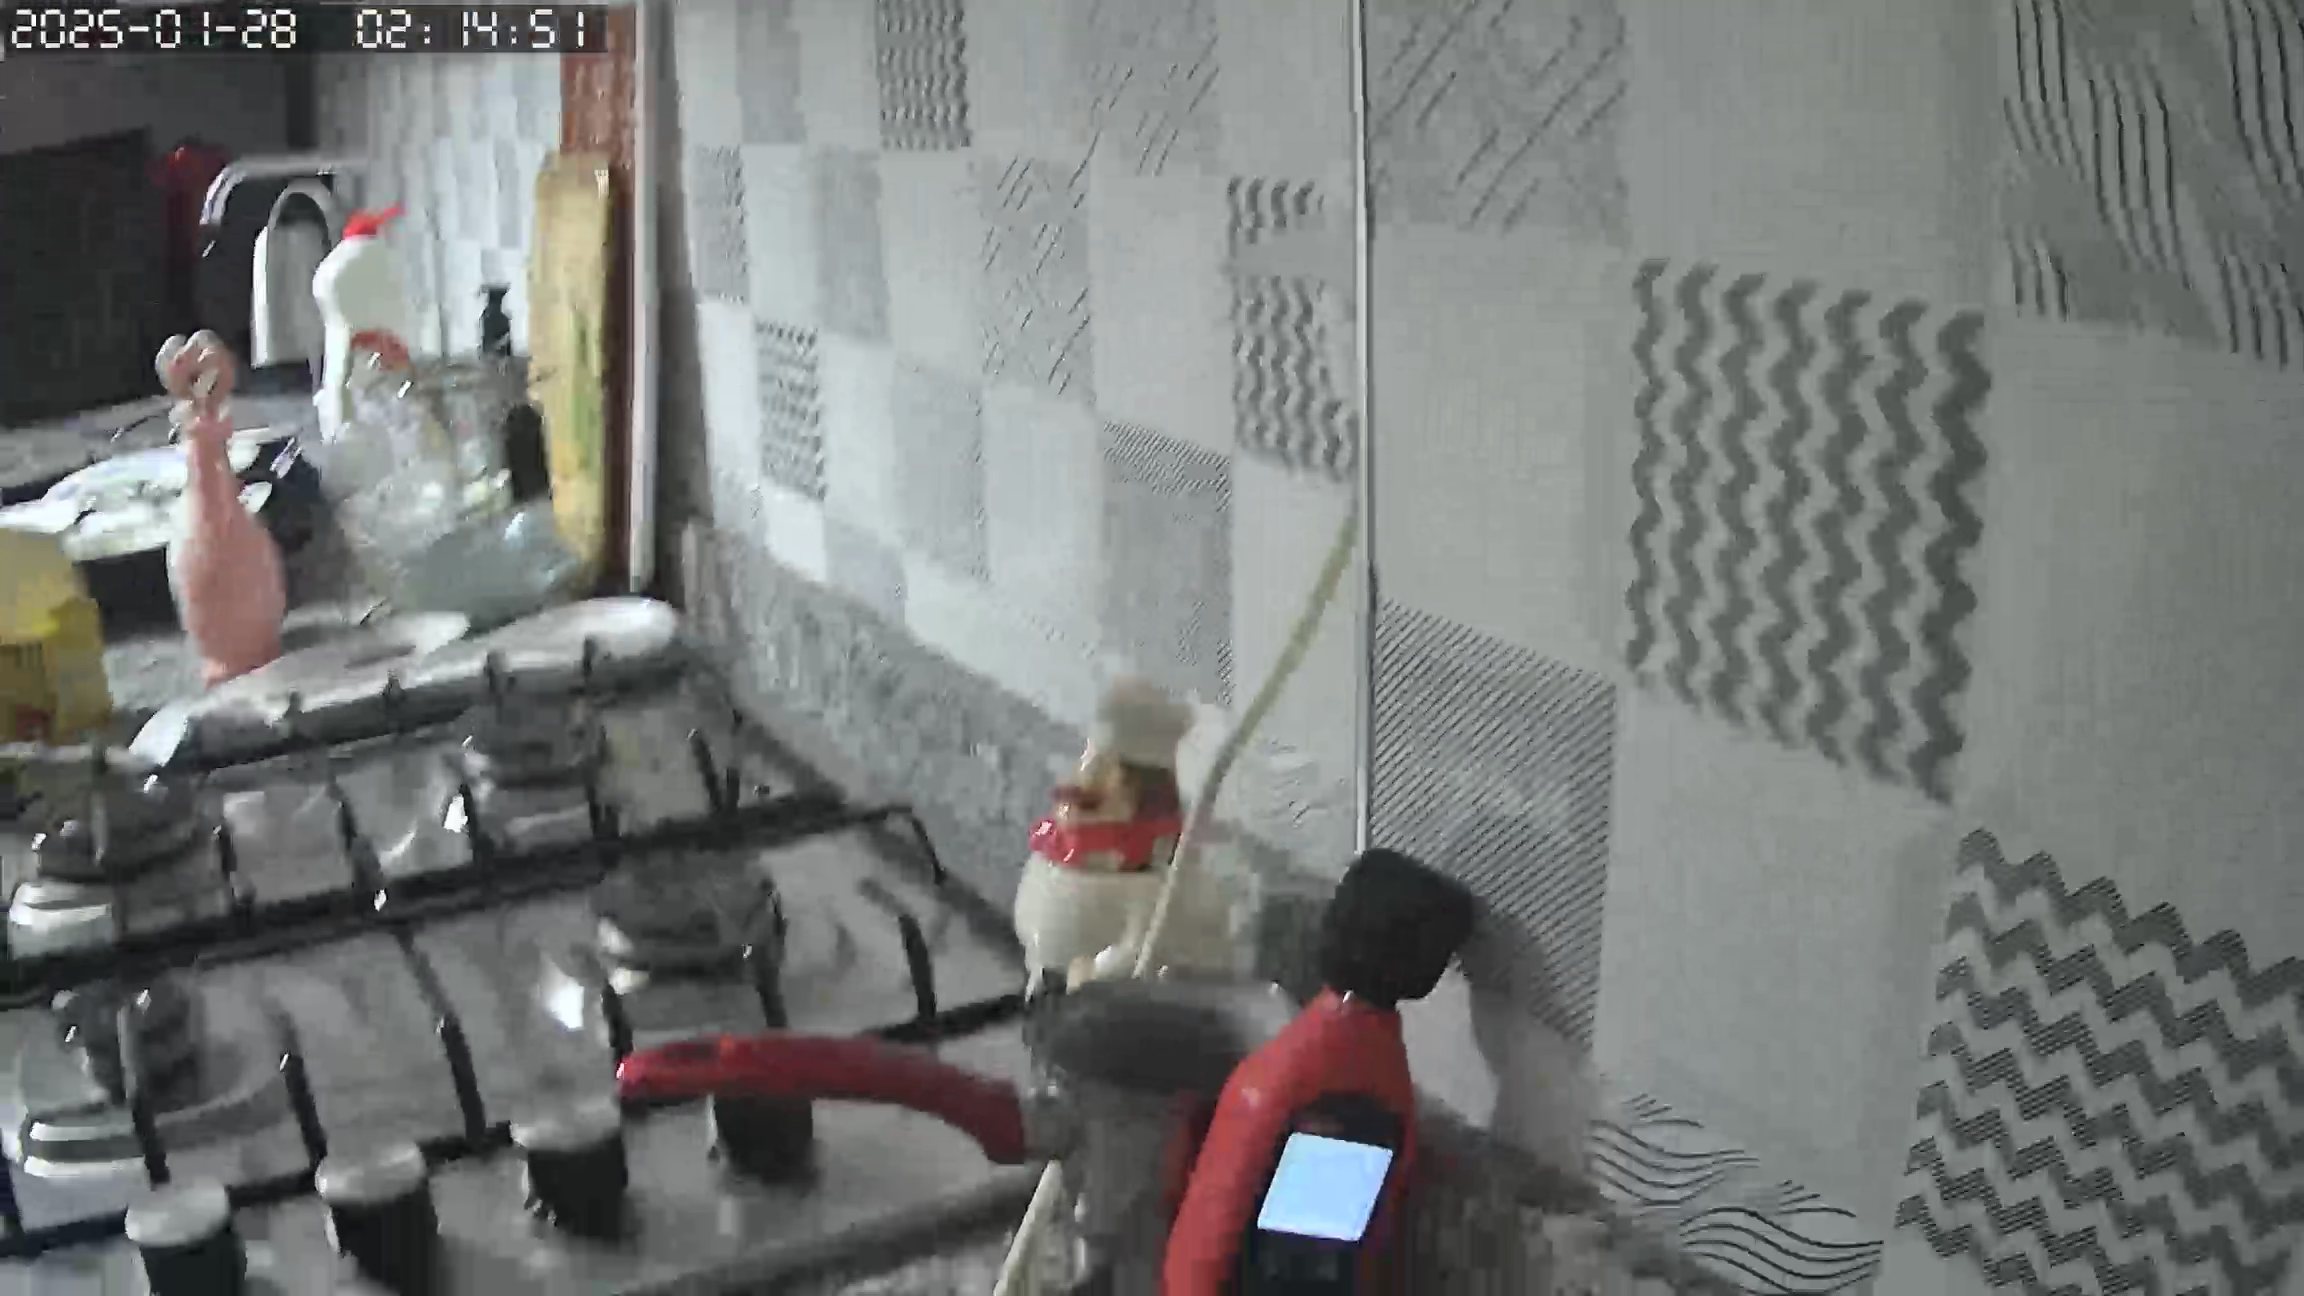screen: (1260, 1135, 1393, 1249)
